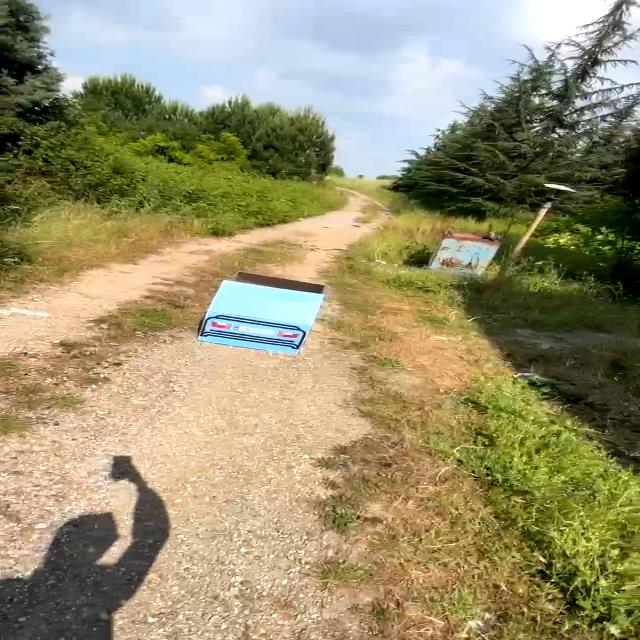blue_car: (185, 265, 345, 375)
